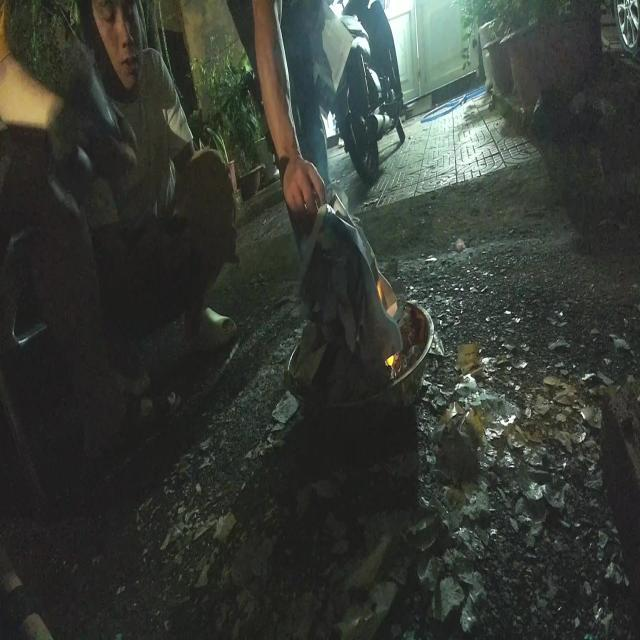Fire: (372, 278, 388, 310), (384, 346, 396, 374)
